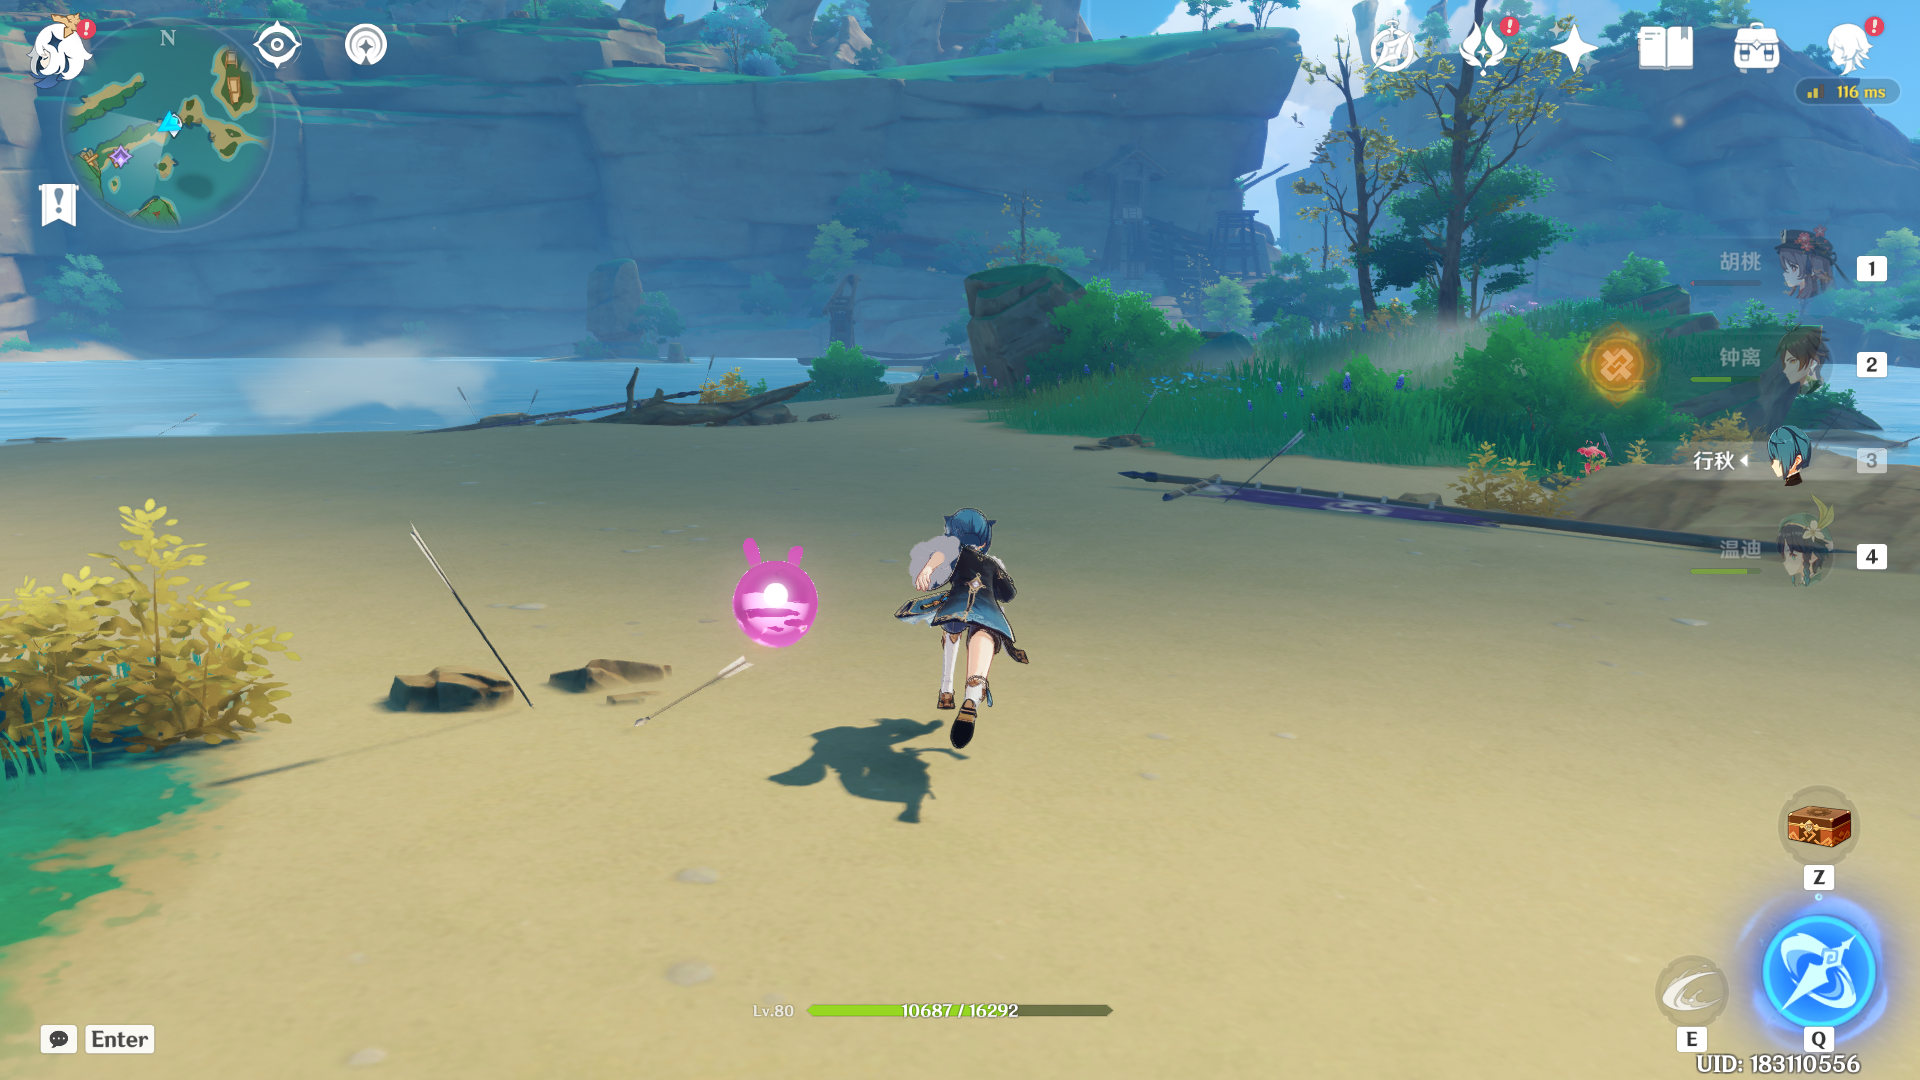character: (880, 471, 1059, 803)
